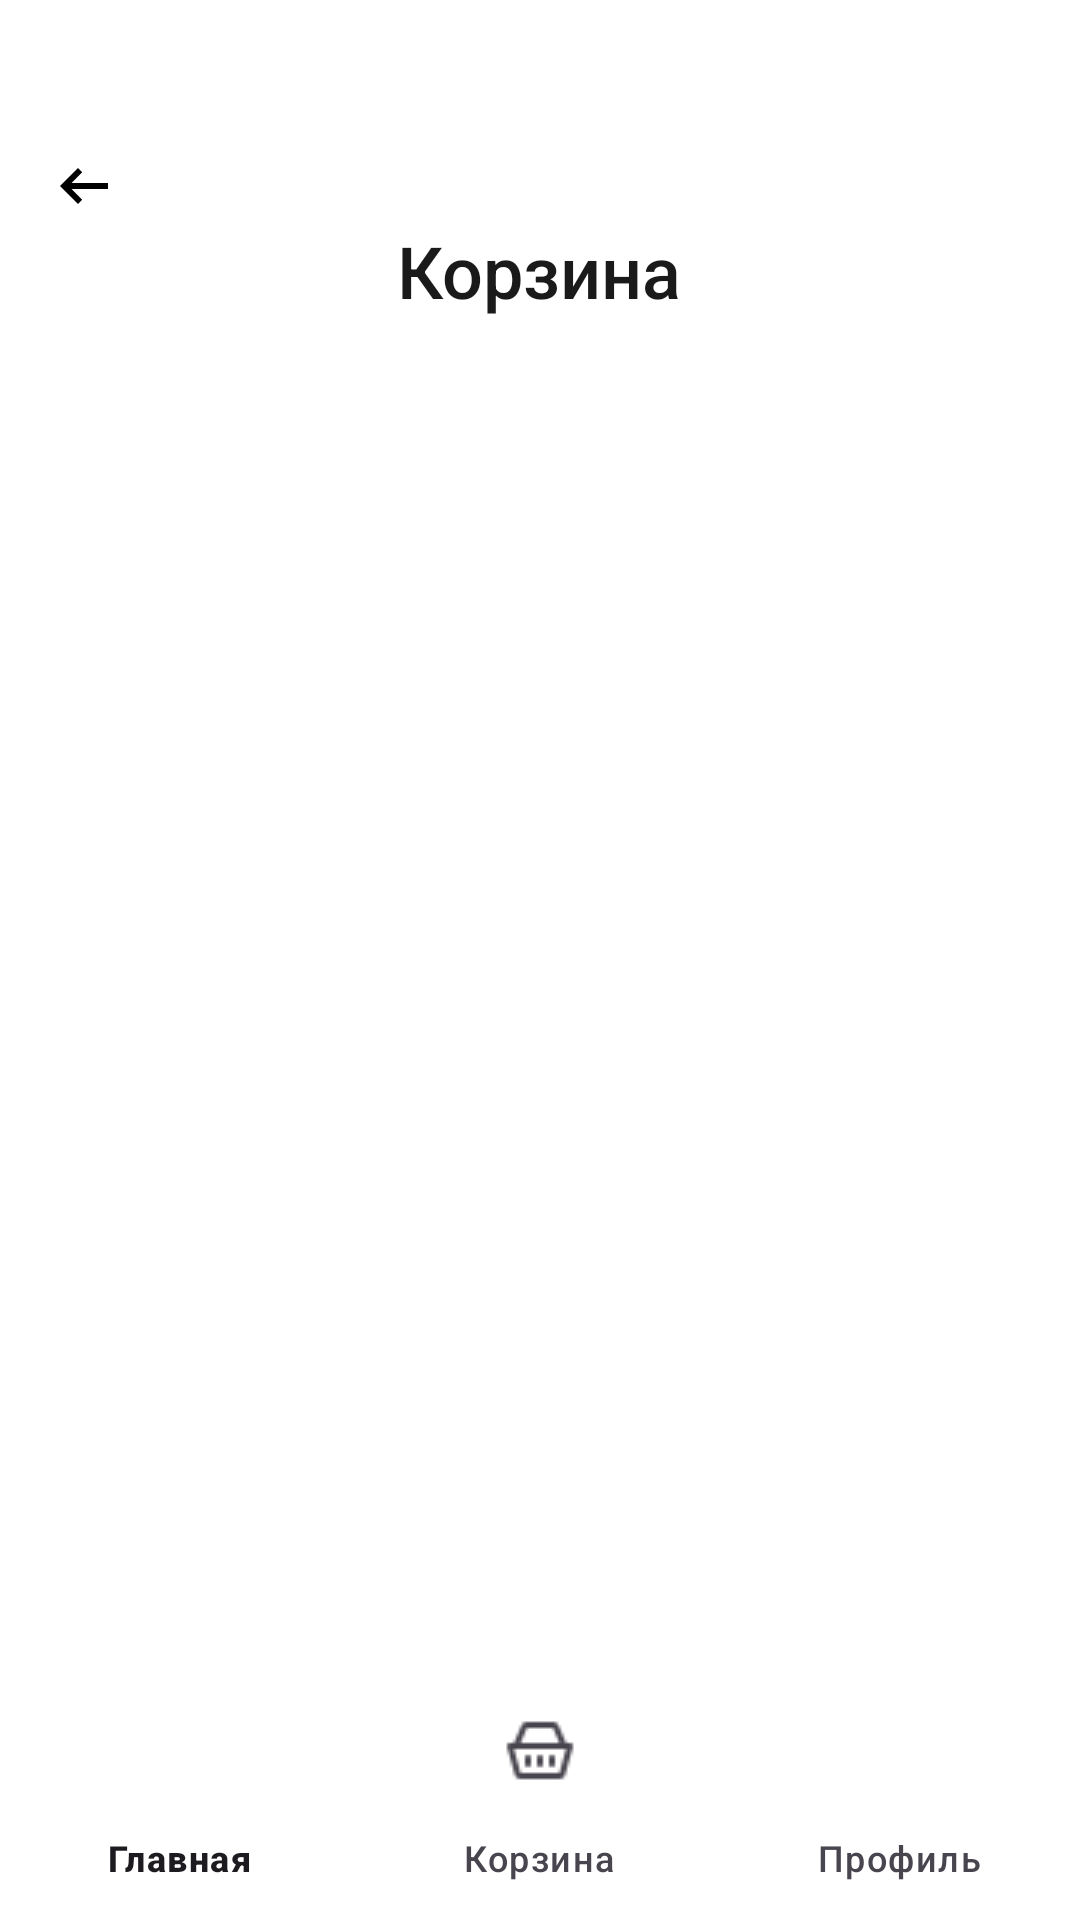

Point at icon controls on the screen. Image size 1080×1920, points as (x=x, y=y).
arrow left: (x=84, y=186)
